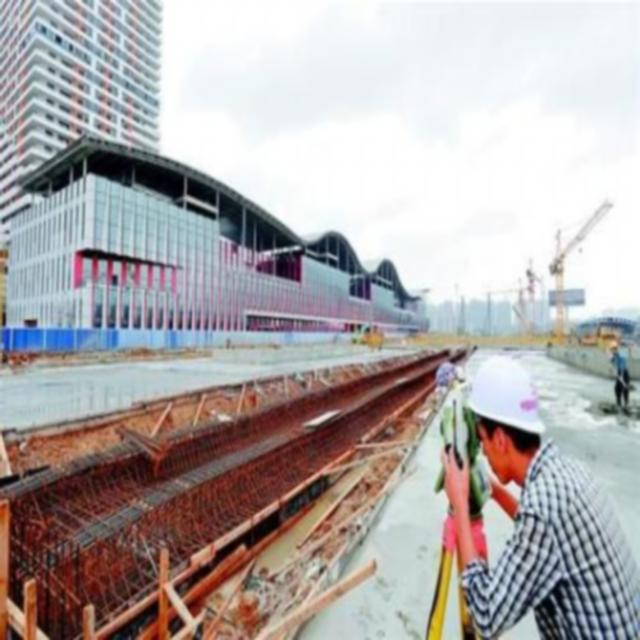head: (460, 345, 556, 486)
